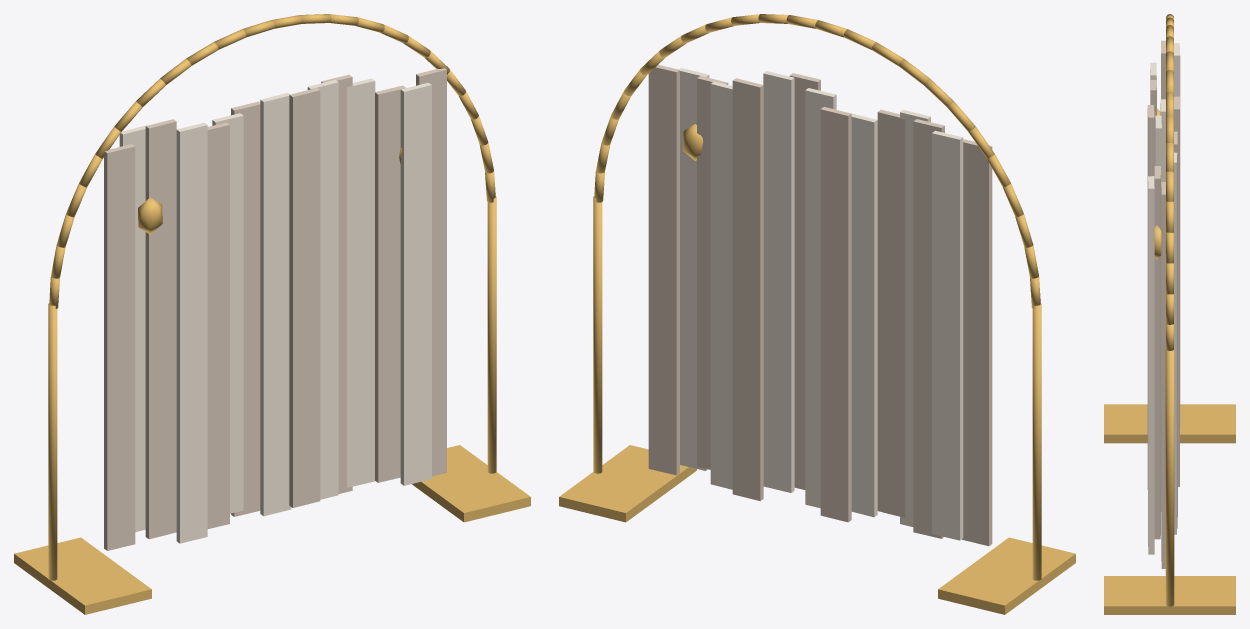
File: backdrop-round-arch.glb
The picture shows the model from 3 angles, left to right: view 1: azimuth 30°, elevation 25°; view 2: azimuth 150°, elevation 25°; view 3: azimuth 270°, elevation 25°; orthographic projection. The views are drawn at different scales.
Visible parts, largest first — view 1: BS_FabricFold_03, BS_FabricFold_08, BS_FabricFold_00, BS_FabricFold_02, BS_FabricFold_13, BS_FabricFold_07, BS_FabricFold_11, BS_FabricFold_12, BS_FabricFold_04, BS_FabricFold_09, BS_FabricFold_06, BS_FabricFold_14 (+8 smaller); view 2: BS_FabricFold_10, BS_FabricFold_09, BS_FabricFold_06, BS_FabricFold_14, BS_FabricFold_01, BS_FabricFold_00, BS_FabricFold_04, BS_FabricFold_05, BS_FabricFold_11, BS_FabricFold_02, BS_FabricFold_07, BS_FabricFold_13 (+7 smaller); view 3: BS_FootR, BS_FootL, BS_FabricFold_13, BS_ArchPost, BS_FabricFold_12, BS_FabricFold_14, BS_FabricFold_11, BS_FabricFold_06, BS_FabricFold_08, BS_FabricFold_01, BS_FabricFold_09, BS_FabricFold_10 (+12 smaller).
Part boxes in pixels (x1,y1,x2,y2): BS_FabricFold_03: (176,122,207,543); BS_FabricFold_08: (289,88,320,507); BS_FabricFold_00: (104,144,135,550); BS_FabricFold_02: (145,119,176,539); BS_FabricFold_13: (400,82,431,485); BS_FabricFold_07: (260,93,291,516); BS_FabricFold_11: (347,78,375,487); BS_FabricFold_12: (375,85,405,482); BS_FabricFold_04: (207,122,229,528); BS_FabricFold_09: (307,80,338,499); BS_FabricFold_06: (231,101,260,516); BS_FabricFold_14: (416,68,446,476); BS_FabricFold_10: (732,78,763,500); BS_FabricFold_09: (763,71,794,492); BS_FabricFold_06: (820,107,851,522); BS_FabricFold_14: (648,64,679,475); BS_FabricFold_01: (932,130,963,540); BS_FabricFold_00: (962,139,992,546); BS_FabricFold_04: (877,109,905,517); BS_FabricFold_05: (850,113,877,517); BS_FabricFold_11: (710,81,732,489); BS_FabricFold_02: (913,119,944,538); BS_FabricFold_07: (805,88,836,508); BS_FabricFold_13: (679,68,709,470); BS_FootR: (1104,576,1235,614); BS_FootL: (1104,404,1235,443); BS_FabricFold_13: (1148,176,1154,554); BS_ArchPost: (1165,349,1174,606); BS_FabricFold_12: (1154,166,1160,539); BS_FabricFold_14: (1161,182,1165,568); BS_FabricFold_11: (1174,152,1177,534); BS_FabricFold_06: (1174,96,1179,486); BS_FabricFold_08: (1147,105,1154,489); BS_FabricFold_01: (1174,43,1180,427); BS_FabricFold_09: (1155,115,1161,511); BS_FabricFold_10: (1174,131,1177,528).
Bounding box in the file's own units: 2 × 2.2 × 0.55.
